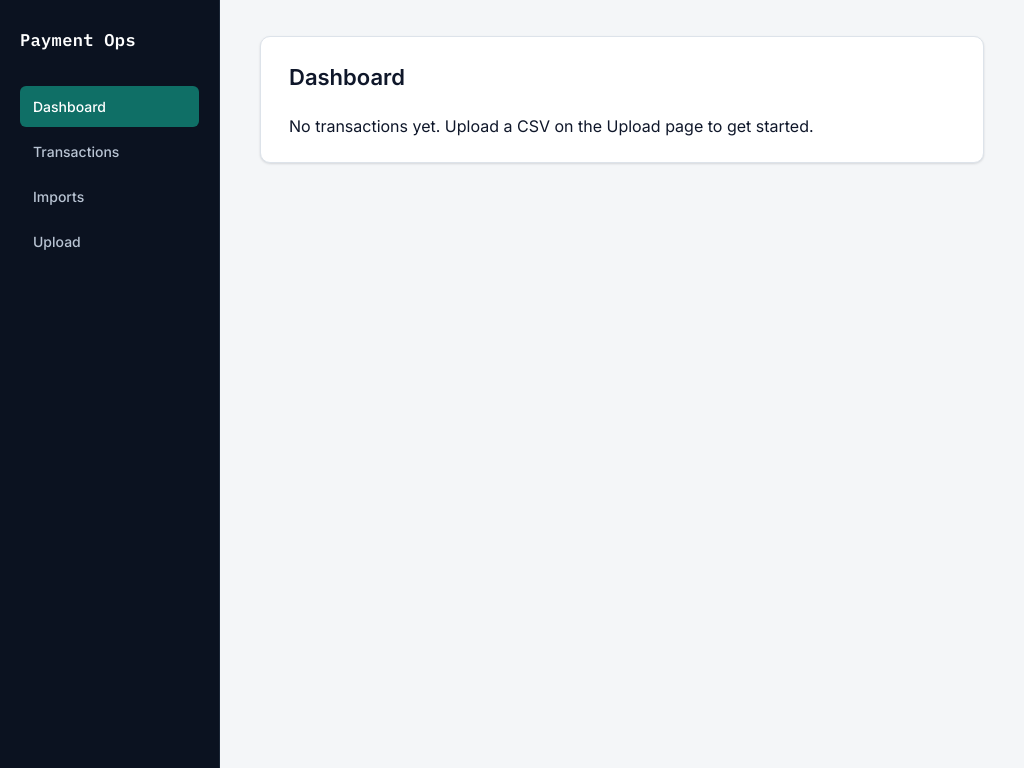
Upload form › shows a validation message when submitting with no file selected
Click the button "Upload" at (110, 241), box [20, 220, 199, 262]
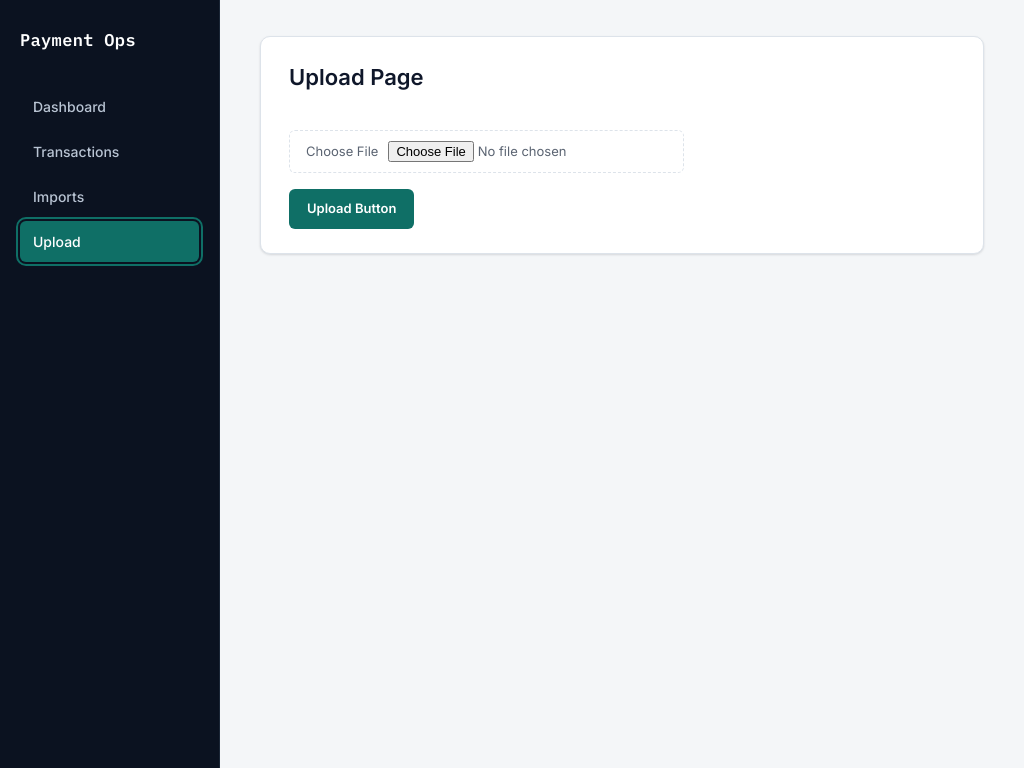
Click the button "Upload Button" at (352, 209), box [289, 189, 414, 228]
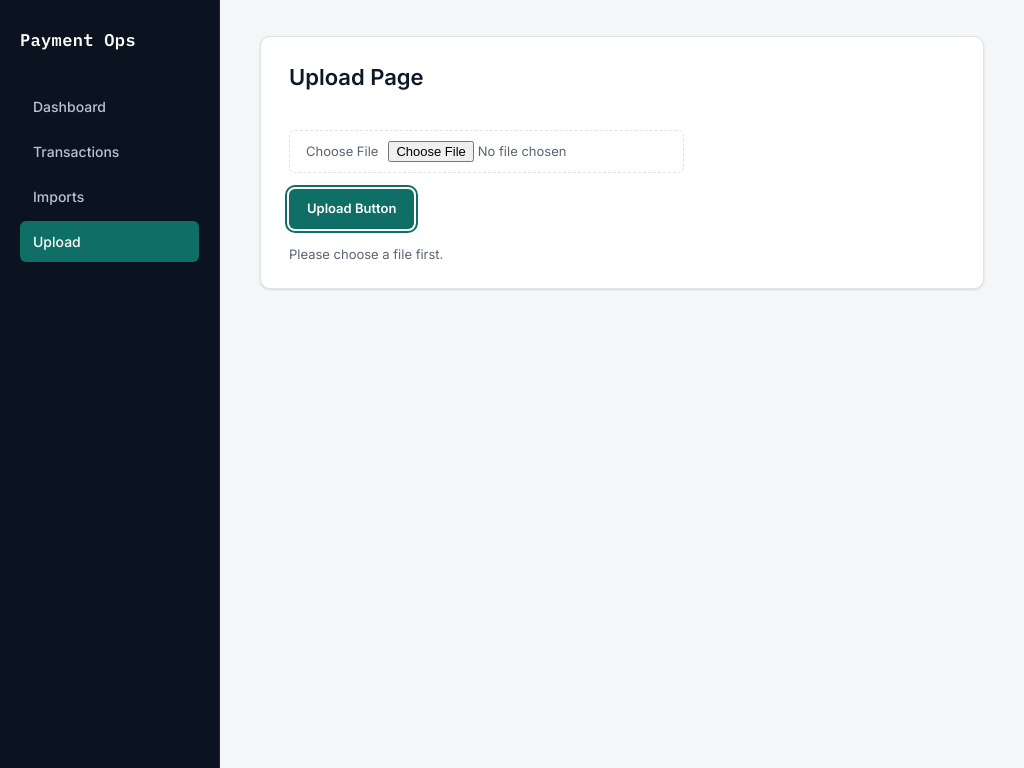
Expected: the text "Please choose a file first." is shown, [289, 244, 443, 264]
